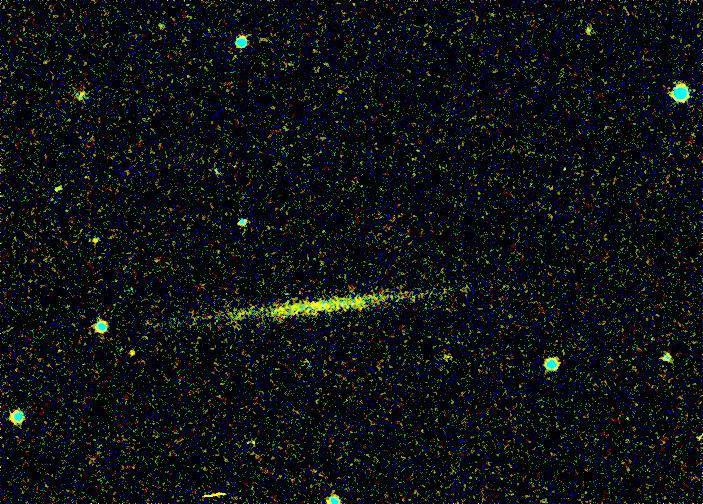star: (106, 339, 136, 369)
